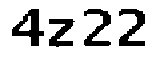2: (81, 5, 114, 50), (116, 6, 149, 50)
4: (9, 4, 46, 53)
z: (46, 16, 77, 52)
